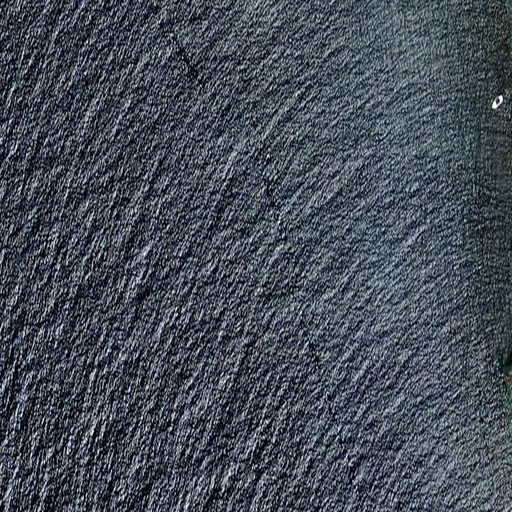ship: (490, 94, 505, 111)
